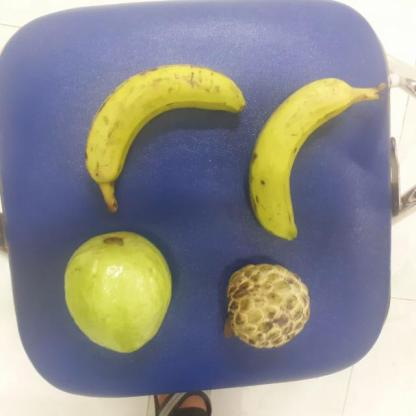annona: (217, 264, 310, 350)
banana: (81, 64, 242, 186), (247, 77, 363, 240)
guava: (58, 233, 172, 350)
